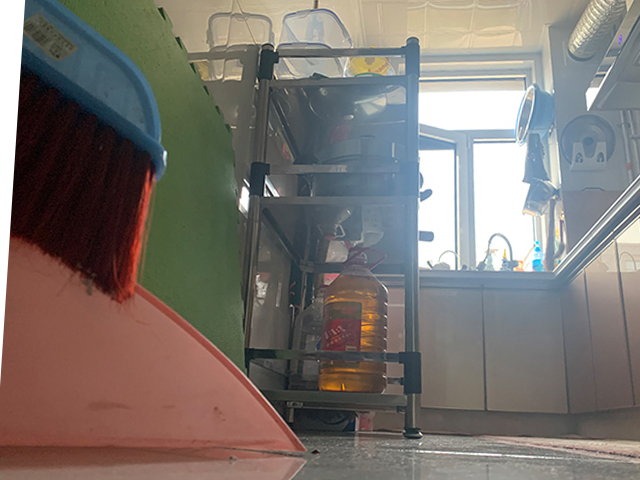cabinet: (416, 269, 555, 433)
carpet: (475, 438, 640, 466), (473, 436, 638, 464)
